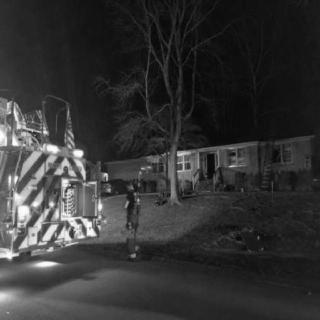other: (68, 140, 90, 162), (43, 137, 63, 157), (15, 200, 33, 220)
